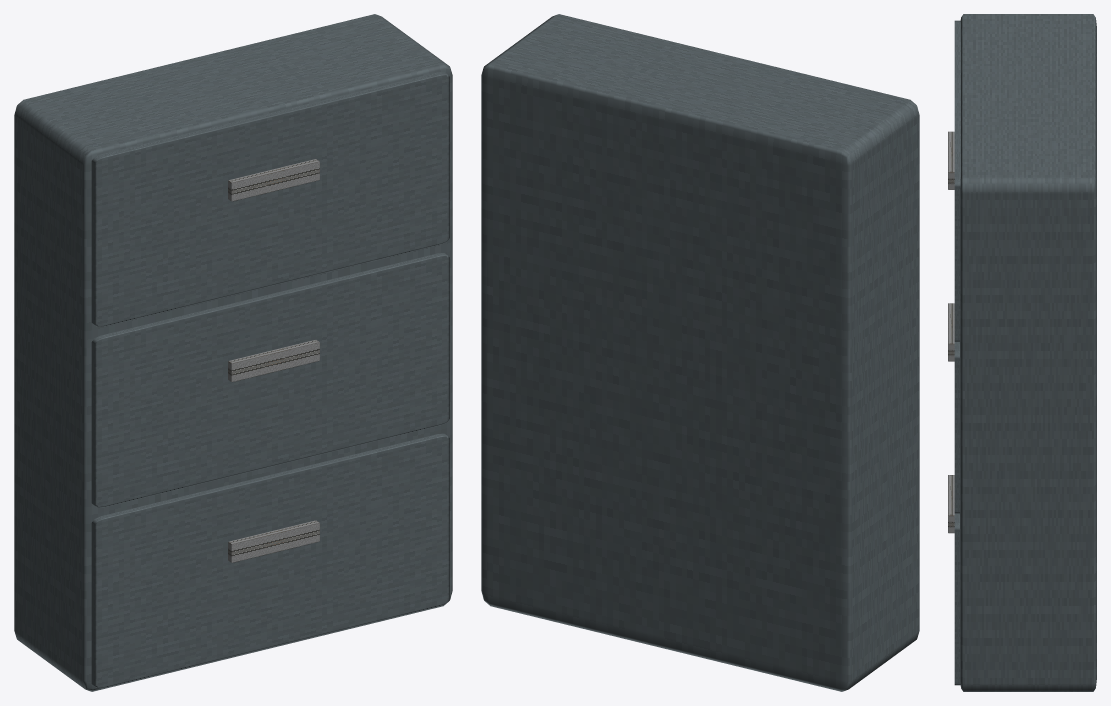
File: breaker.glb
3 views of the same model, side by side, from view 1: azimuth 30°, elevation 25°; view 2: azimuth 150°, elevation 25°; view 3: azimuth 270°, elevation 25° (orthographic). The views are drawn at different scales.
Visible parts, largest first — view 1: front (×3), case, pull (×3); view 2: case; view 3: case, front (×3), pull (×3).
Part boxes in pixels (left/top/right/bottom): front (×3): left=91, top=72, right=449, bottom=688; case: left=14, top=14, right=452, bottom=691; pull (×3): left=228, top=159, right=319, bottom=562; case: left=481, top=14, right=919, bottom=691; case: left=960, top=14, right=1096, bottom=691; front (×3): left=954, top=20, right=960, bottom=685; pull (×3): left=948, top=131, right=954, bottom=533.
Size of the model in its own units: 0.6 by 0.84 by 0.22.
Materials: 2 (2 with a texture image).
